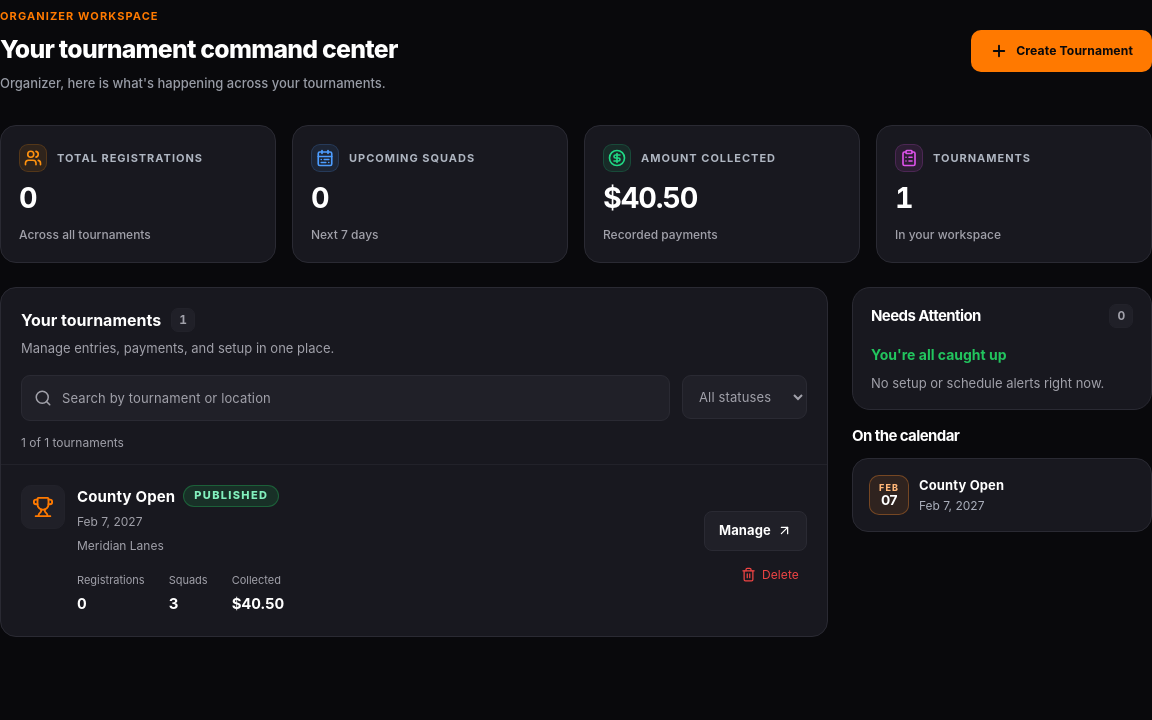
Test case: operations dashboard › keeps the deletion confirmation and cancellation workflow
The width and height of the screenshot is (1152, 720).
Click the button with aria-label "Delete County Open": point(770, 575) [733,559,807,591]
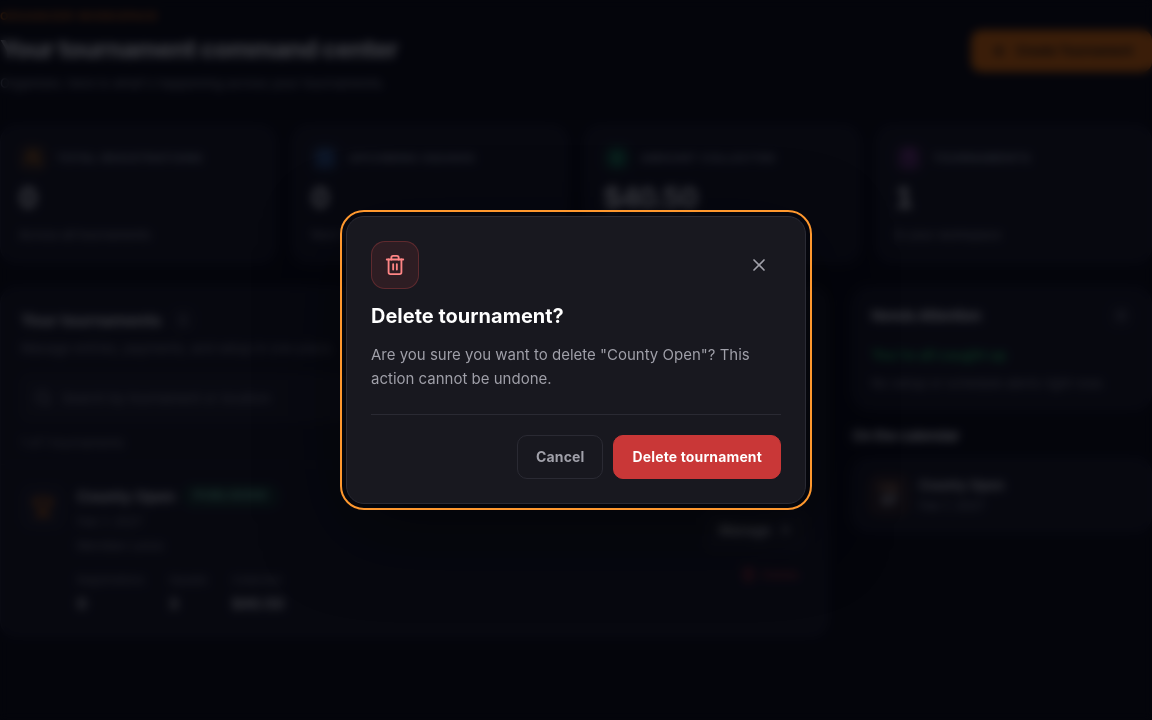
Expected: the dialog "Delete tournament?" shows "County Open", [371,344,750,388]
Click the button "Cancel": point(560, 457) [517,435,604,479]
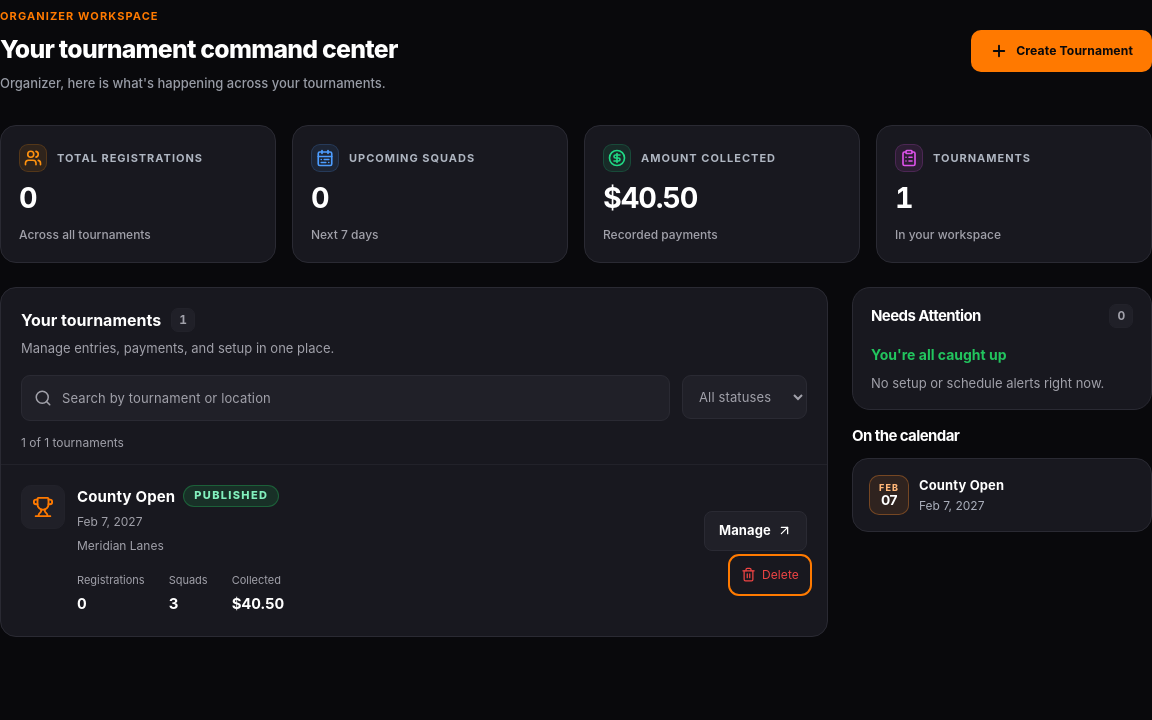
Expected: the dialog is gone
